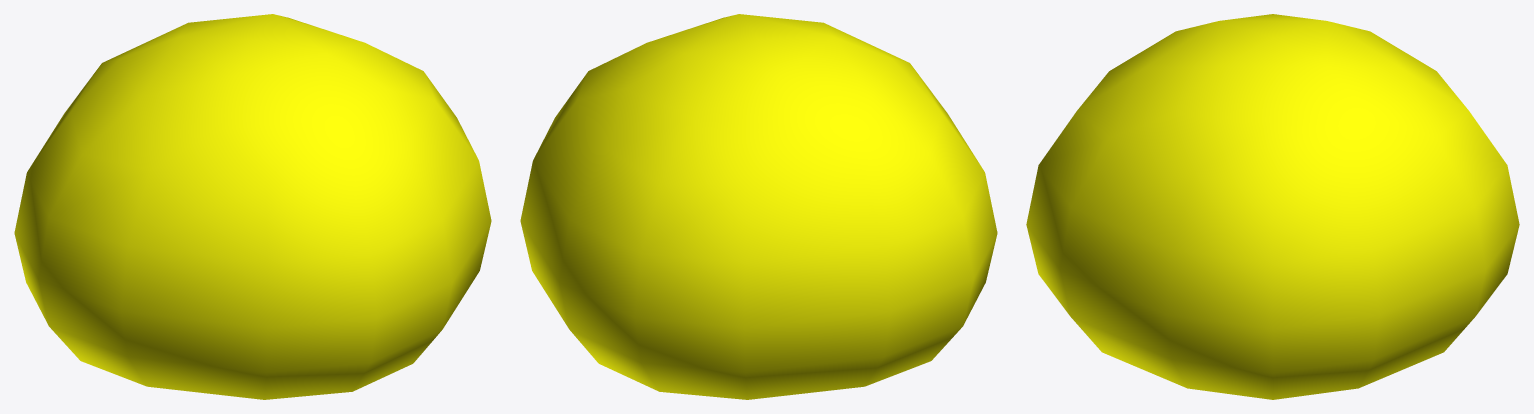
The model's file is kaykit-bush-1-c-color-1.glb.
The picture shows the model from 3 angles, left to right: view 1: azimuth 30°, elevation 25°; view 2: azimuth 150°, elevation 25°; view 3: azimuth 270°, elevation 25°; orthographic projection.
Visible parts, largest first — view 1: Bush_1_C_Color1; view 2: Bush_1_C_Color1; view 3: Bush_1_C_Color1.
Boxes of the visible parts, <box> form: Bush_1_C_Color1: <box>14,14,491,399</box>; Bush_1_C_Color1: <box>520,14,997,399</box>; Bush_1_C_Color1: <box>1026,14,1519,399</box>.
Size of the model in its own units: 1.2 by 0.8074 by 1.2.
